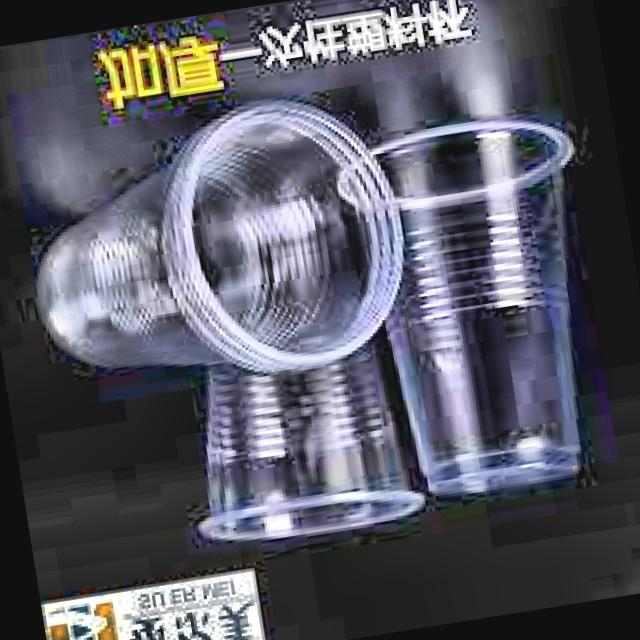plastic cup: (0, 92, 421, 421), (356, 120, 613, 514), (166, 364, 420, 564)
